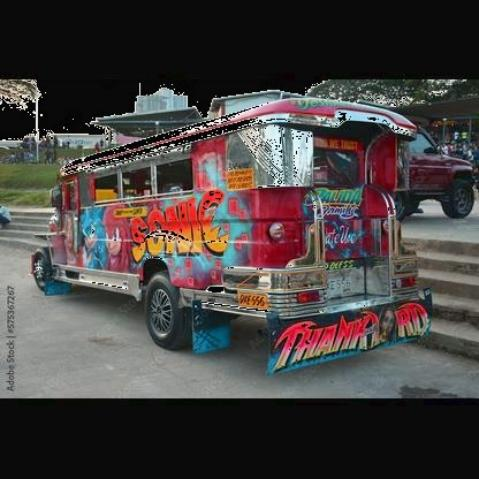jeepney: (32, 90, 439, 366)
